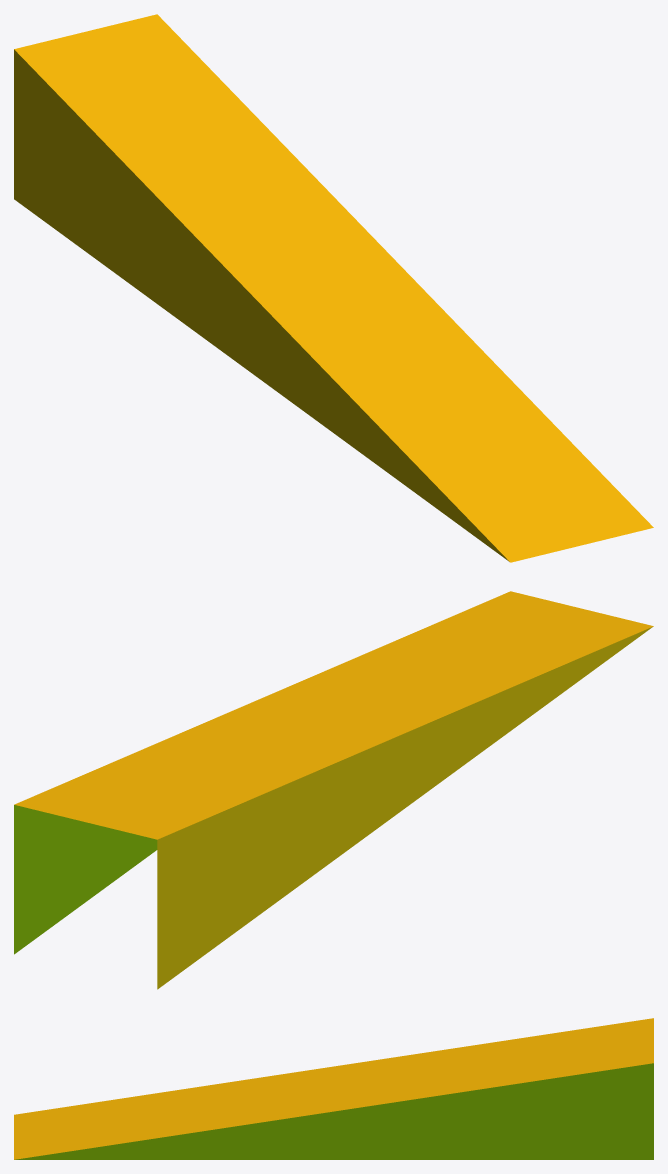
File: wedge_6.dae
3 views of the same model, one above another, from view 1: azimuth 30°, elevation 25°; view 2: azimuth 150°, elevation 25°; view 3: azimuth 270°, elevation 25° (orthographic). The views are drawn at different scales.
Visible parts, largest first — view 1: Cube; view 2: Cube; view 3: Cube.
Boxes of the visible parts, x1,y1,x2,y2 form: Cube: [14, 14, 653, 562]; Cube: [14, 591, 653, 989]; Cube: [14, 1018, 653, 1159].
Size of the model in its own units: 0.25 by 1.5 by 0.25.
